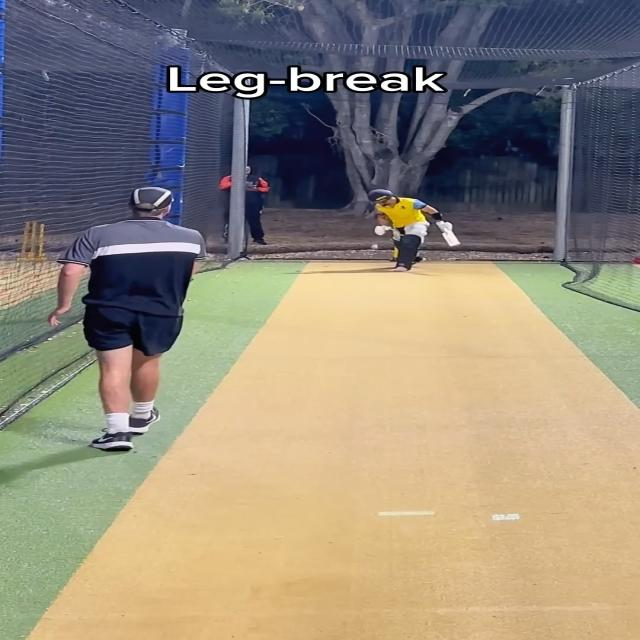Cricket ball: (370, 243, 380, 250)
